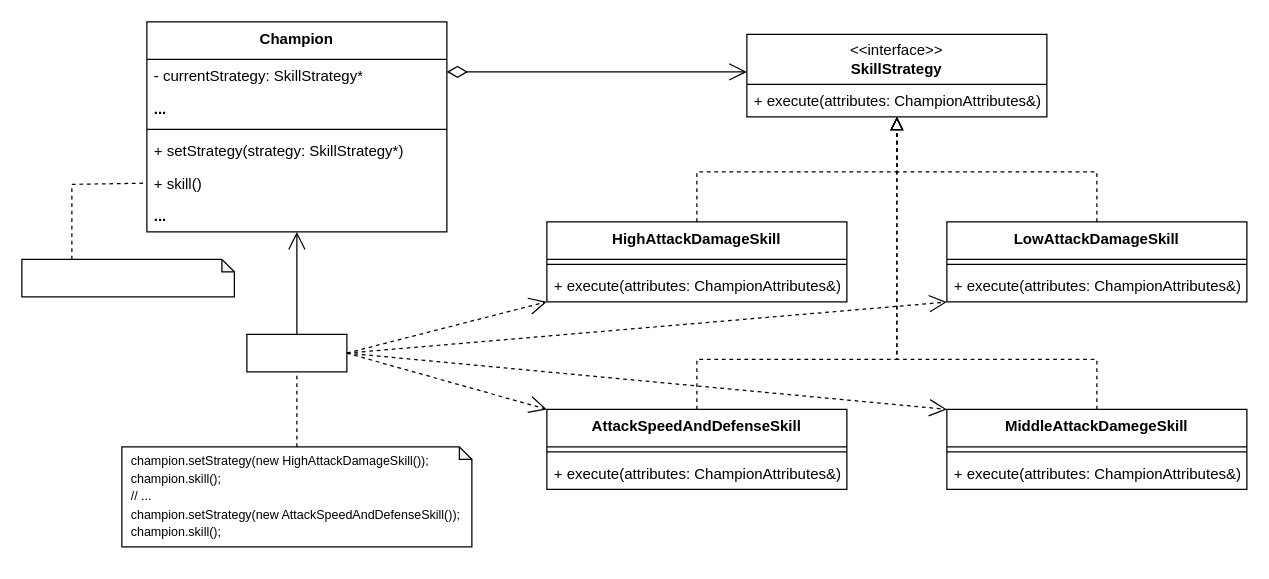
Some shapes in this 1269 by 579 pixel diagram are drawn without their labels. Each missing label, with the centre of its shape:
Client: (x=296, y=352)
currentStrategy.execute(attributes): (x=127, y=277)
